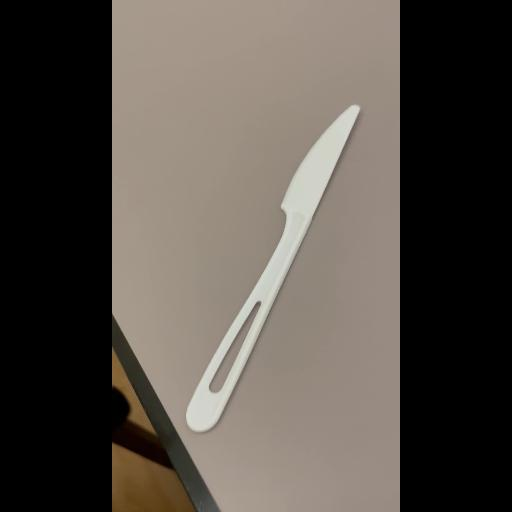utensil: (174, 97, 370, 431)
